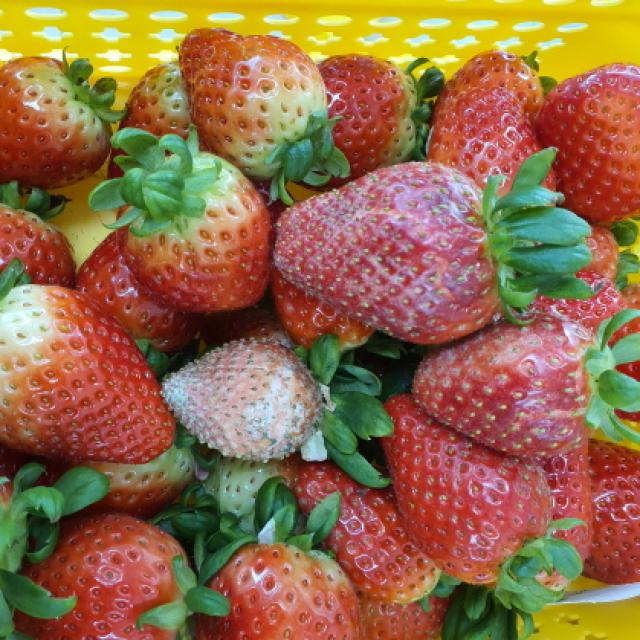Powdery Mildew Fruit: (272, 161, 508, 347), (411, 316, 607, 458), (158, 339, 327, 462)
